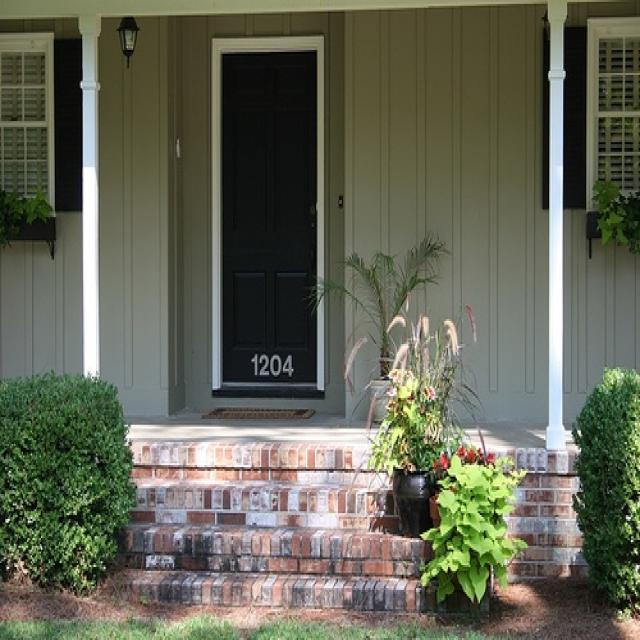pottedplant: (310, 235, 448, 422), (370, 376, 454, 541)
